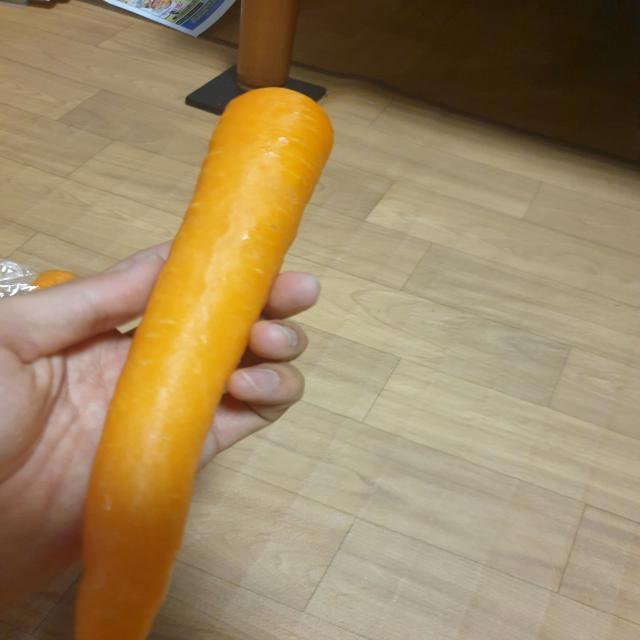carrot: (60, 83, 343, 637)
